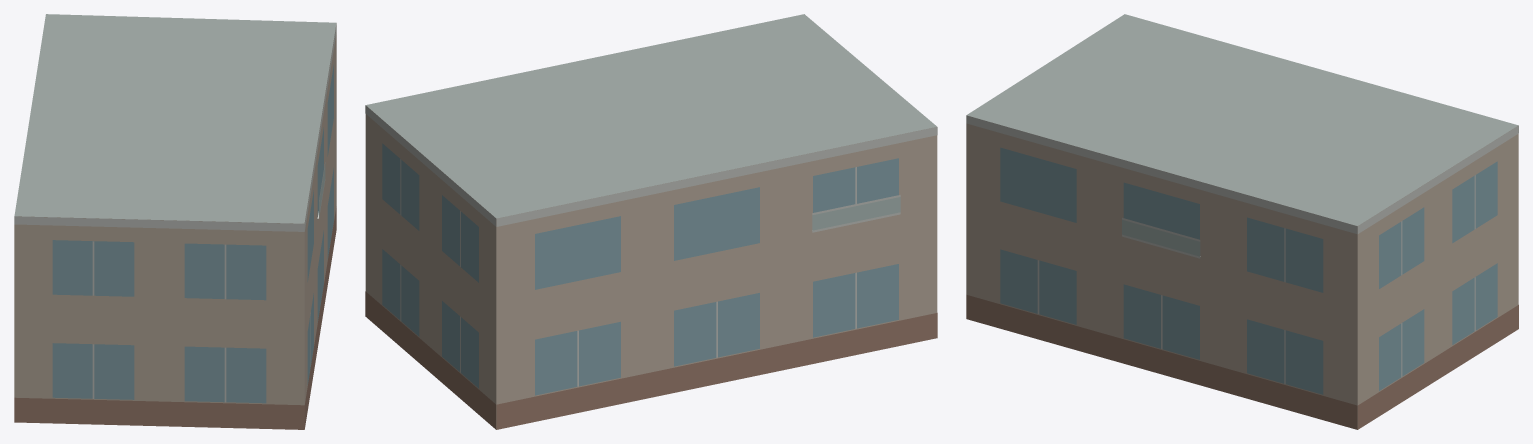
Rendered from survey-upis-33016097.glb.
3 views of the same model, side by side, from view 1: azimuth 30°, elevation 25°; view 2: azimuth 150°, elevation 25°; view 3: azimuth 270°, elevation 25° (orthographic). The views are drawn at different scales.
Visible parts, largest first — view 1: survey-upis-33016097.tmp; view 2: survey-upis-33016097.tmp; view 3: survey-upis-33016097.tmp.
Boxes of the visible parts, x1,y1,x2,y2 form: survey-upis-33016097.tmp: (14, 14, 336, 429); survey-upis-33016097.tmp: (365, 14, 937, 429); survey-upis-33016097.tmp: (966, 14, 1518, 429).
Bounding box in the file's own units: 13.64 × 6.1 × 15.
